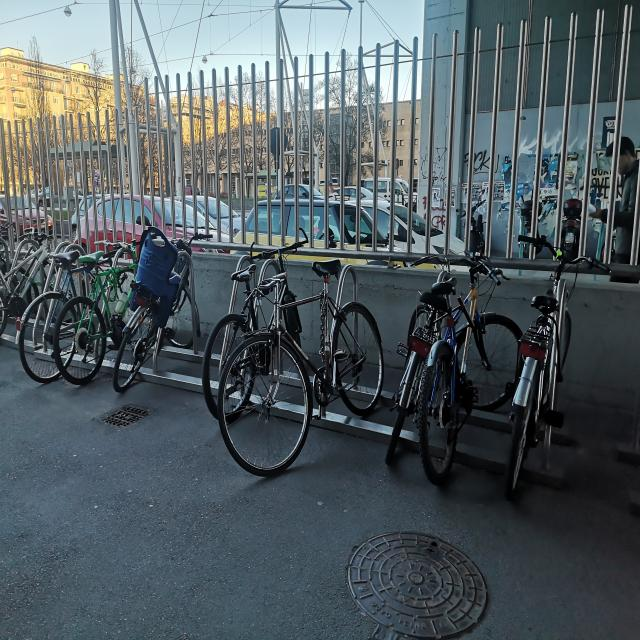Bicycle: (217, 255, 396, 486), (496, 223, 628, 520), (417, 241, 517, 490), (199, 208, 308, 427), (113, 188, 210, 408), (373, 242, 451, 472), (57, 224, 152, 405), (20, 229, 101, 395), (0, 210, 79, 363)
